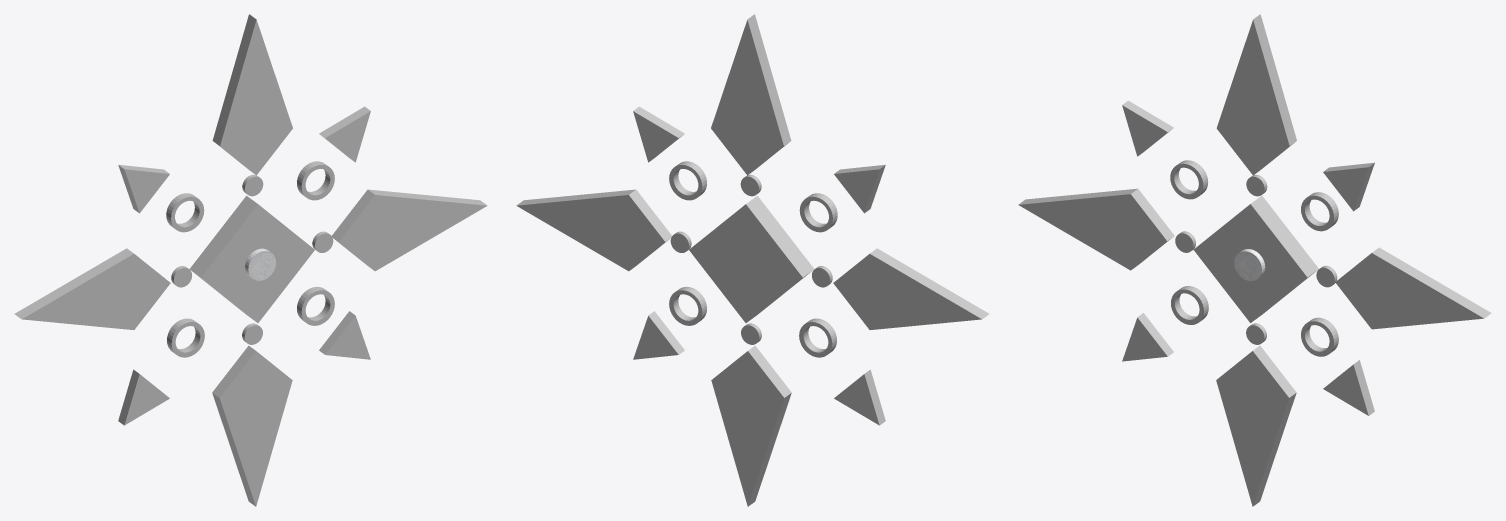
File: Boss.obj
3 views of the same model, side by side, from view 1: azimuth 30°, elevation 25°; view 2: azimuth 150°, elevation 25°; view 3: azimuth 330°, elevation 25° (orthographic).
Parts seen in each view (by area): view 1: 円柱.002; view 2: 円柱.002; view 3: 円柱.002.
Part boxes in pixels (box(x1,y1,x2,y2)): 円柱.002: box(14, 14, 487, 506); 円柱.002: box(516, 14, 989, 506); 円柱.002: box(1018, 14, 1491, 506).
Size of the model in its own units: 11.56 by 11.55 by 0.6414.
